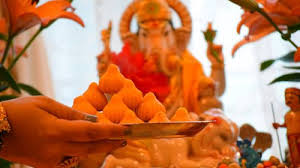modak: (97, 61, 129, 92), (140, 91, 168, 120), (118, 82, 147, 109), (104, 92, 130, 120), (70, 94, 103, 113), (82, 83, 107, 105)
